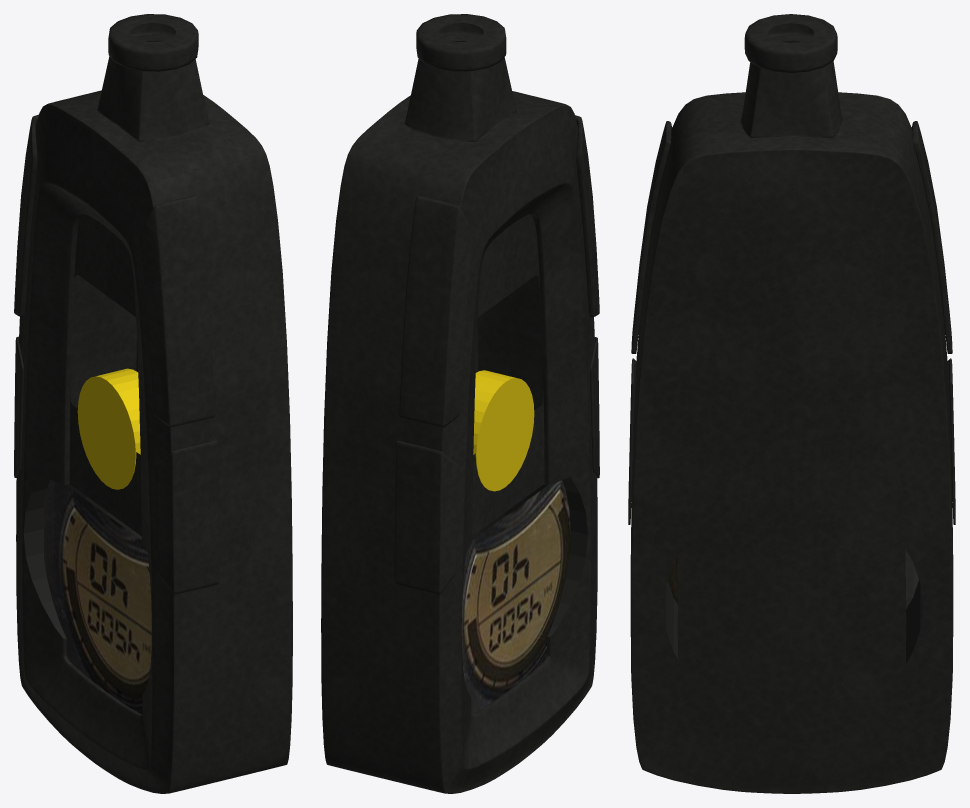
Rendered from unit.glb.
3 renders of one model, left to right at view 1: azimuth 30°, elevation 25°; view 2: azimuth 150°, elevation 25°; view 3: azimuth 270°, elevation 25°, orthographic.
Parts seen in each view (by area): view 1: Drager_AirBoss_48, Screenshot 2026-09-25 at 15.08.19, Drager_AirBoss_51, Drager_AirBoss_50, Cylinder.001, Drager_AirBoss_47; view 2: Drager_AirBoss_48, Screenshot 2026-09-25 at 15.08.19, Drager_AirBoss_51, Drager_AirBoss_50, Cylinder.001, Drager_AirBoss_47; view 3: Drager_AirBoss_48, Drager_AirBoss_47, Drager_AirBoss_51, Drager_AirBoss_50, Screenshot 2026-09-25 at 15.08.19.
Boxes of the visible parts, x1,y1,x2,y2 form: Drager_AirBoss_48: [16, 33, 292, 793]; Screenshot 2026-09-25 at 15.08.19: [44, 479, 151, 714]; Drager_AirBoss_51: [14, 114, 214, 427]; Drager_AirBoss_50: [14, 336, 219, 594]; Cylinder.001: [77, 368, 140, 489]; Drager_AirBoss_47: [108, 14, 198, 71]; Drager_AirBoss_48: [321, 34, 597, 793]; Screenshot 2026-09-25 at 15.08.19: [461, 480, 570, 714]; Drager_AirBoss_51: [399, 115, 599, 427]; Drager_AirBoss_50: [394, 337, 599, 594]; Cylinder.001: [473, 370, 534, 491]; Drager_AirBoss_47: [416, 14, 506, 71]; Drager_AirBoss_48: [630, 34, 953, 793]; Drager_AirBoss_47: [744, 14, 837, 72]; Drager_AirBoss_51: [631, 121, 952, 353]; Drager_AirBoss_50: [628, 358, 955, 524]; Screenshot 2026-09-25 at 15.08.19: [667, 549, 918, 608].
Bounding box in the file's own units: 0.1063 × 0.5456 × 0.2215.
Materials: 3 (2 with a texture image).
